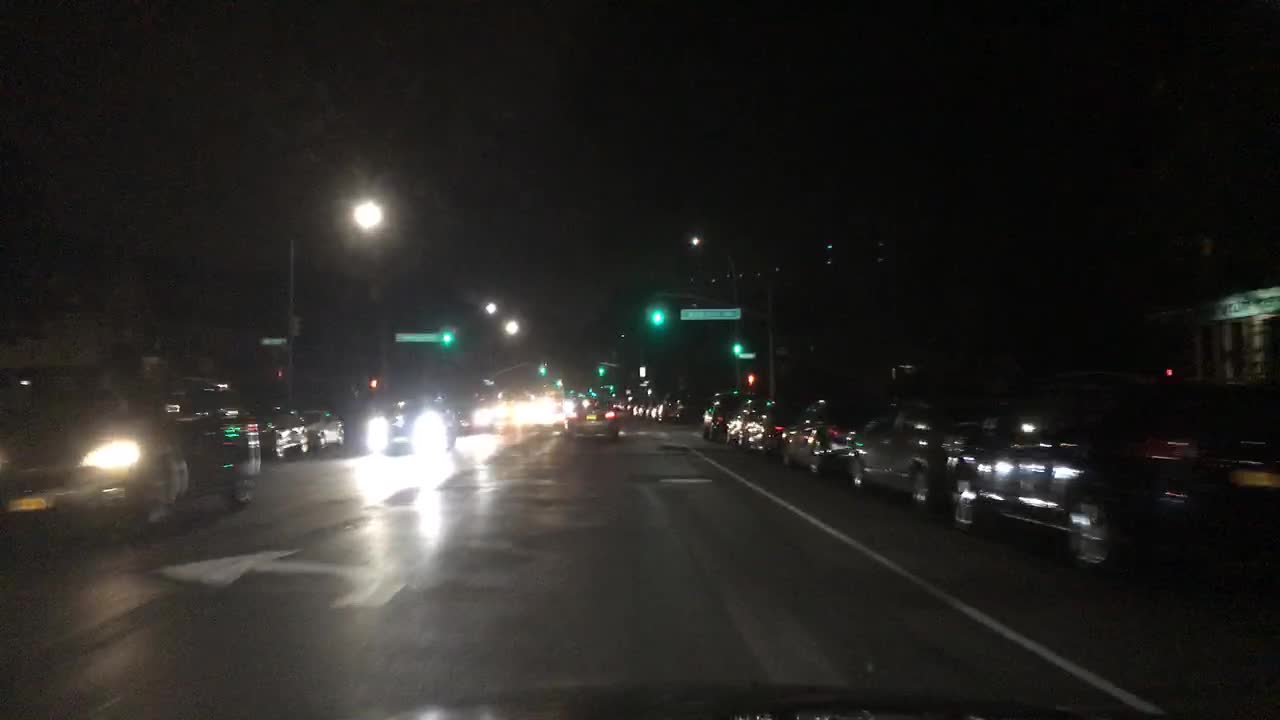car: (937, 382, 1206, 570), (0, 372, 265, 540), (1144, 385, 1278, 588), (840, 406, 959, 508), (777, 401, 860, 480), (363, 403, 454, 450), (727, 401, 790, 457), (256, 407, 312, 459), (701, 387, 748, 443), (562, 399, 618, 443), (298, 407, 347, 447), (470, 402, 506, 428), (536, 396, 564, 428), (506, 400, 538, 428), (660, 396, 688, 422), (452, 409, 473, 431), (629, 394, 646, 417), (645, 394, 660, 418), (613, 396, 629, 413)
traffic light: (650, 305, 664, 330), (440, 328, 454, 347), (270, 367, 290, 377), (367, 377, 381, 391), (730, 342, 742, 358), (596, 363, 608, 377), (746, 372, 756, 388), (538, 360, 548, 375)
traffic sign: (678, 307, 742, 321), (393, 332, 440, 342), (258, 335, 288, 347), (737, 351, 760, 363), (638, 365, 648, 379)
